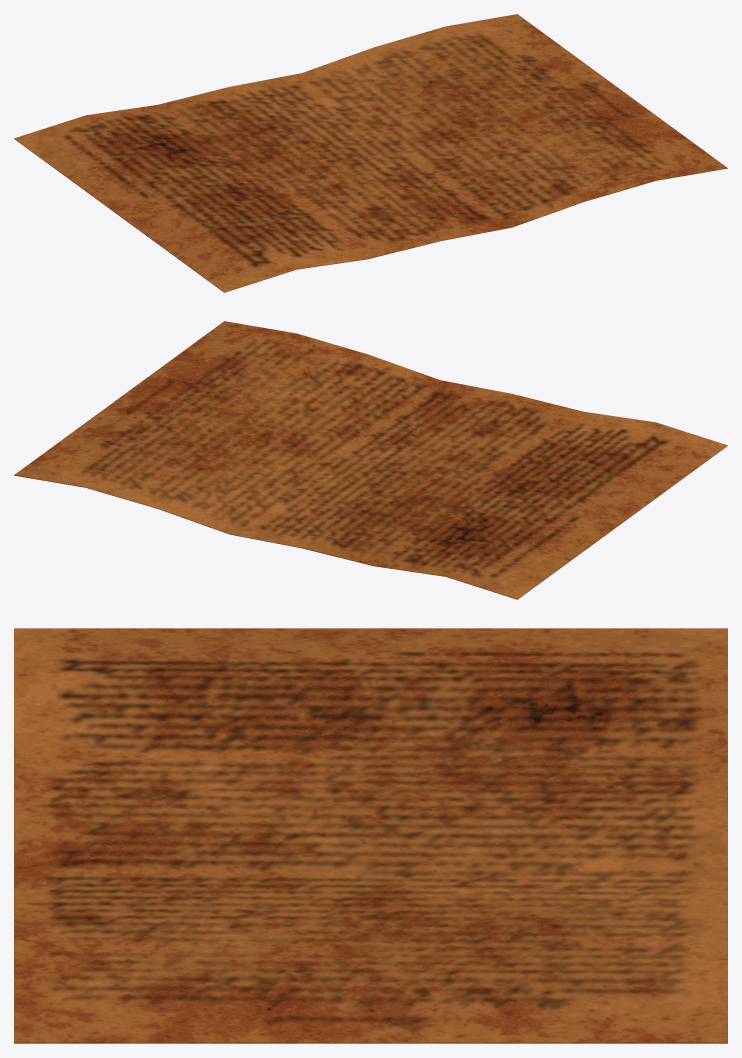
Rendered from paper.fbx.
3 renders of one model, top to bottom at view 1: azimuth 30°, elevation 25°; view 2: azimuth 150°, elevation 25°; view 3: azimuth 270°, elevation 25°, orthographic. The views are drawn at different scales.
Parts seen in each view (by area): view 1: paper; view 2: paper; view 3: paper.
Boxes of the visible parts, left/top/right/bottom form: paper: left=14, top=14, right=727, bottom=292; paper: left=14, top=321, right=727, bottom=599; paper: left=14, top=628, right=727, bottom=1043.
Size of the model in its own units: 2.78 by 2.01 by 0.0639.
Materials: 1 (1 with a texture image).
